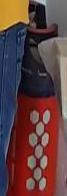cylinder: (1, 1, 67, 196)
